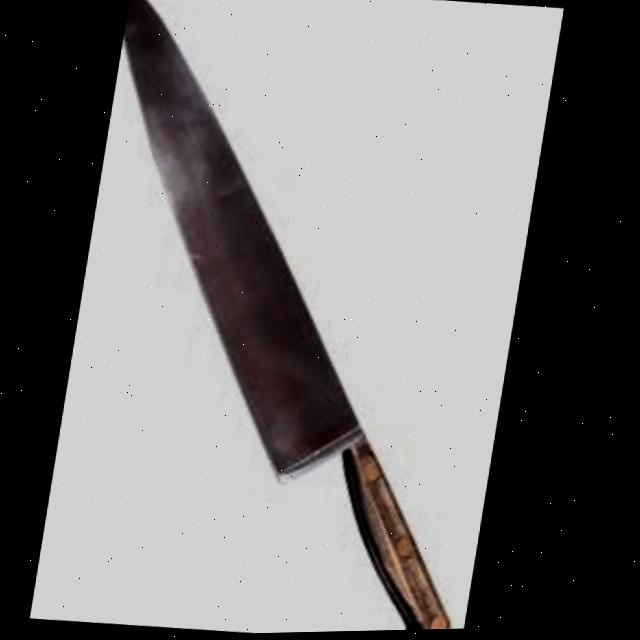knife: (38, 0, 555, 639)
